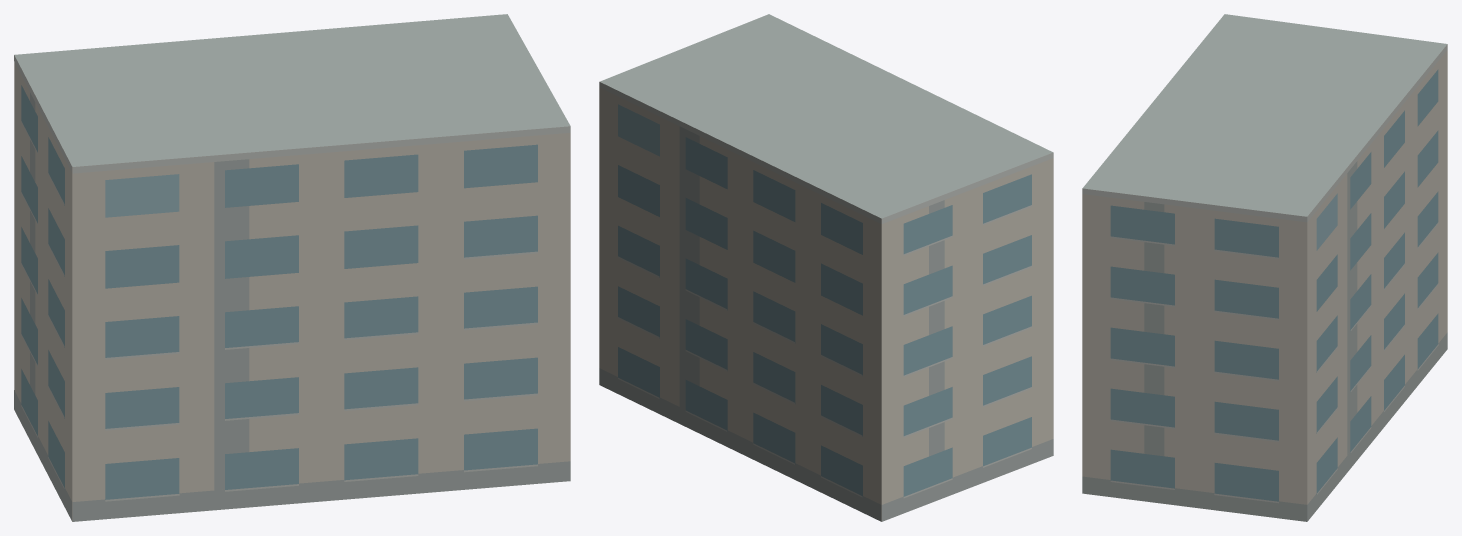
Rendered from survey-upis-32905258.glb.
3 views of the same model, side by side, from view 1: azimuth 30°, elevation 25°; view 2: azimuth 150°, elevation 25°; view 3: azimuth 270°, elevation 25° (orthographic). The views are drawn at different scales.
Visible parts, largest first — view 1: survey-upis-32905258.tmp; view 2: survey-upis-32905258.tmp; view 3: survey-upis-32905258.tmp.
Boxes of the visible parts, box(x1,y1,x2,y2) form: survey-upis-32905258.tmp: box(14, 14, 570, 521); survey-upis-32905258.tmp: box(599, 14, 1053, 521); survey-upis-32905258.tmp: box(1082, 14, 1447, 521).
Bounding box in the file's own units: 18.82 × 13.2 × 14.33.
